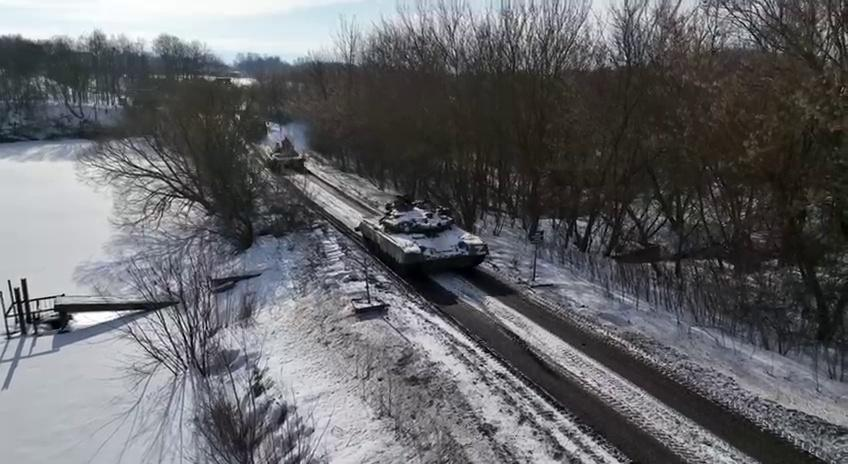tank: (356, 195, 491, 280), (263, 137, 311, 176)
